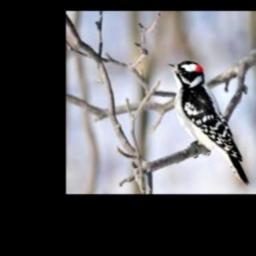Woodpecker: (166, 61, 250, 186)
